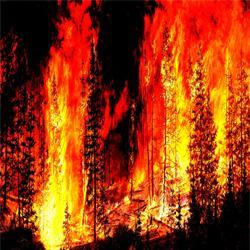fire: (44, 111, 82, 239), (167, 80, 189, 208), (211, 78, 234, 184)
